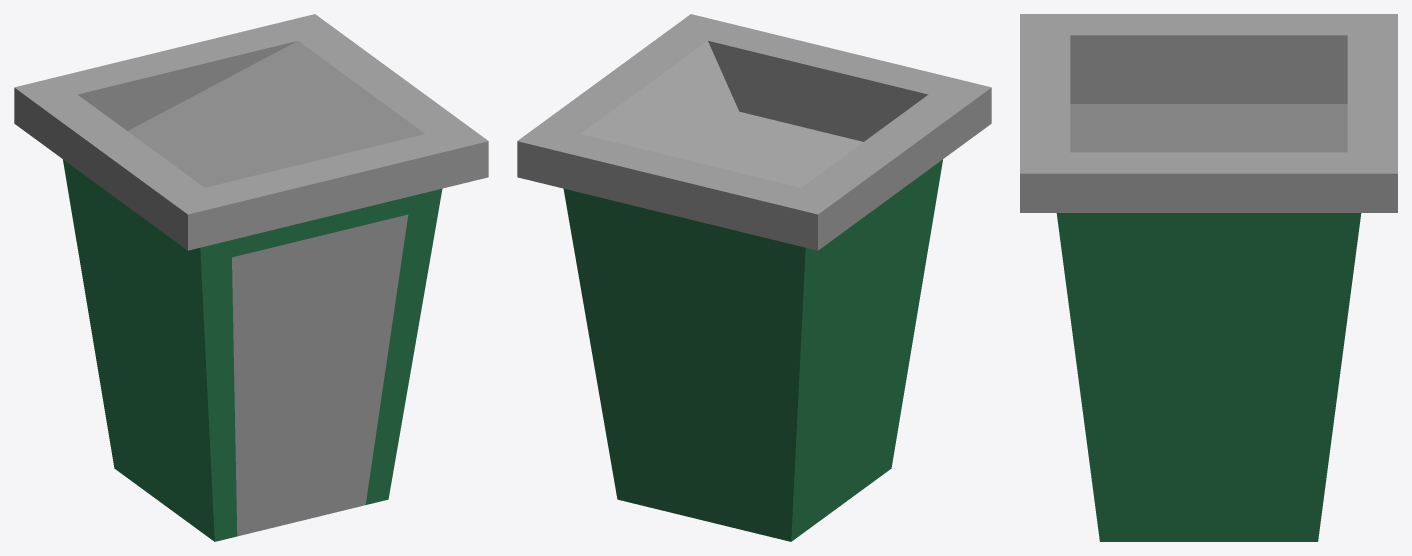
The model's file is LixeiraVidro.fbx.
The picture shows the model from 3 angles, left to right: view 1: azimuth 30°, elevation 25°; view 2: azimuth 150°, elevation 25°; view 3: azimuth 270°, elevation 25°; orthographic projection. The views are drawn at different scales.
Visible parts, largest first — view 1: lixeira_vidro; view 2: lixeira_vidro; view 3: lixeira_vidro.
Boxes of the visible parts, x1,y1,x2,y2 form: lixeira_vidro: (14, 14, 488, 541); lixeira_vidro: (517, 14, 991, 541); lixeira_vidro: (1020, 14, 1397, 541).
Bounding box in the file's own units: 11.51 × 13.51 × 11.51.
